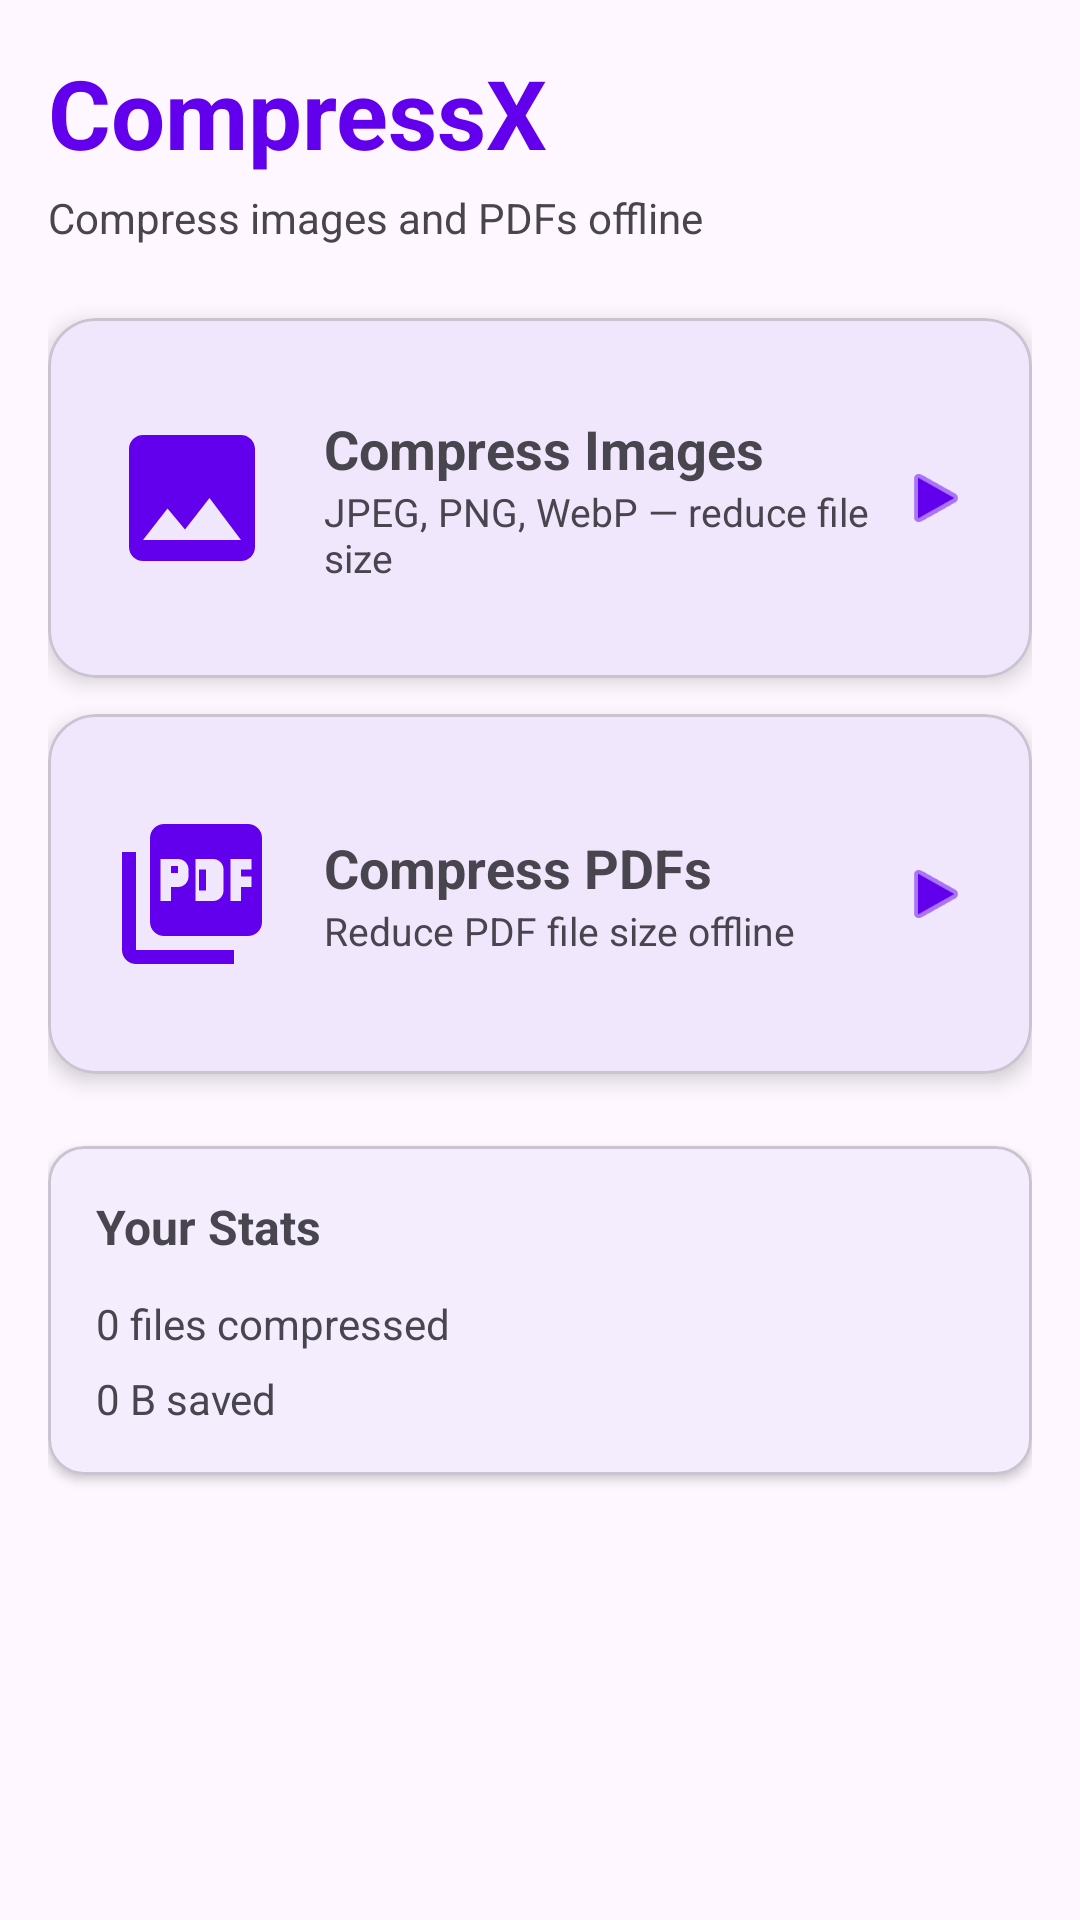

Icon click points for this 1080x1920 phone screenshot, format (x,y):
play: (936,498), (936,894)
